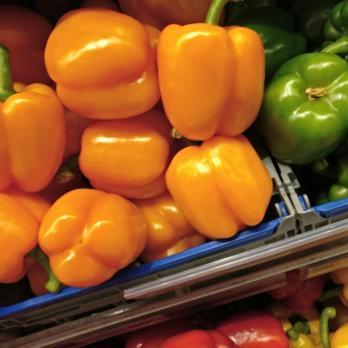Capsicum: (5, 2, 272, 289), (145, 287, 348, 348), (268, 30, 348, 166)
